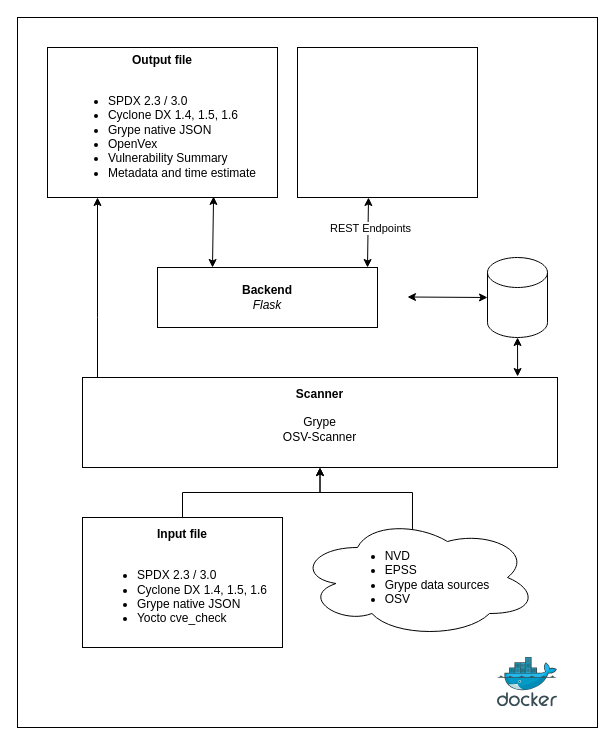
Image size: 615x745. Some labels were removed from this diagram. The shapes that lost their labels are listed below. From the top down, each one's box as (x1, y1, x2, y2) in pixels, then its label:
(296, 46, 478, 198): Frontend React.js
(486, 256, 548, 338): NVD DB
